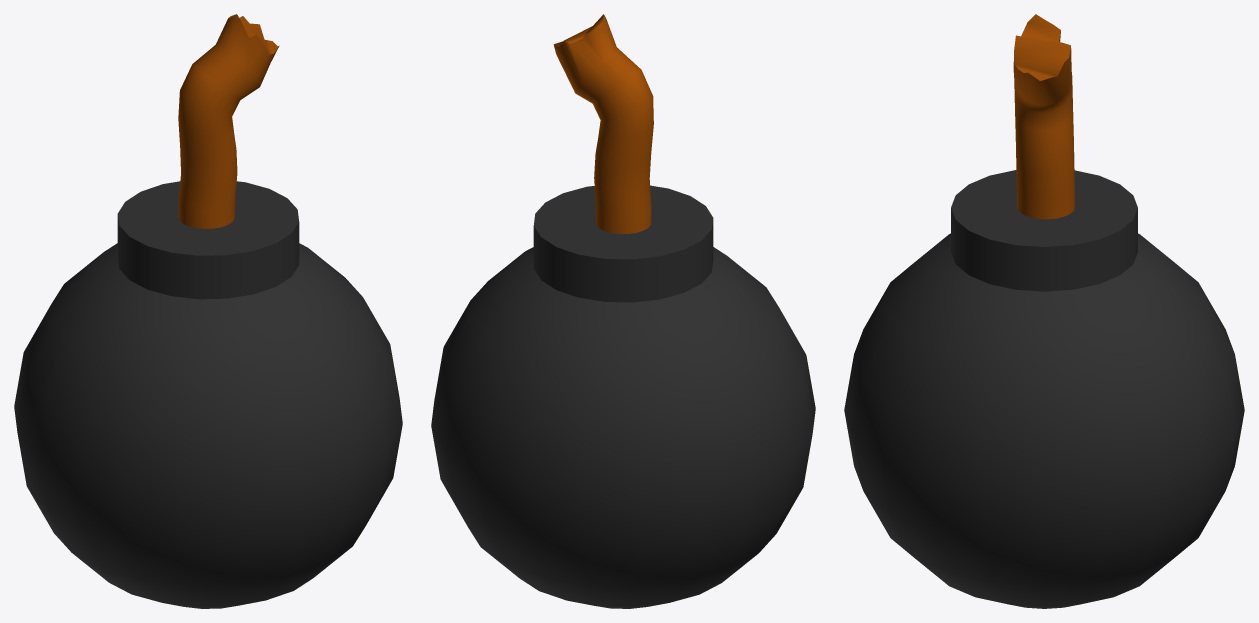
Rendered from BobOmb.fbx.
3 renders of one model, left to right at view 1: azimuth 30°, elevation 25°; view 2: azimuth 150°, elevation 25°; view 3: azimuth 270°, elevation 25°, orthographic. The views are drawn at different scales.
Parts seen in each view (by area): view 1: pSphere2; view 2: pSphere2; view 3: pSphere2.
Part boxes in pixels (box(x1,y1,x2,y2)): pSphere2: box(14, 14, 402, 608); pSphere2: box(431, 14, 815, 608); pSphere2: box(844, 14, 1244, 608).
Bounding box in the file's own units: 3 × 4.87 × 3.
